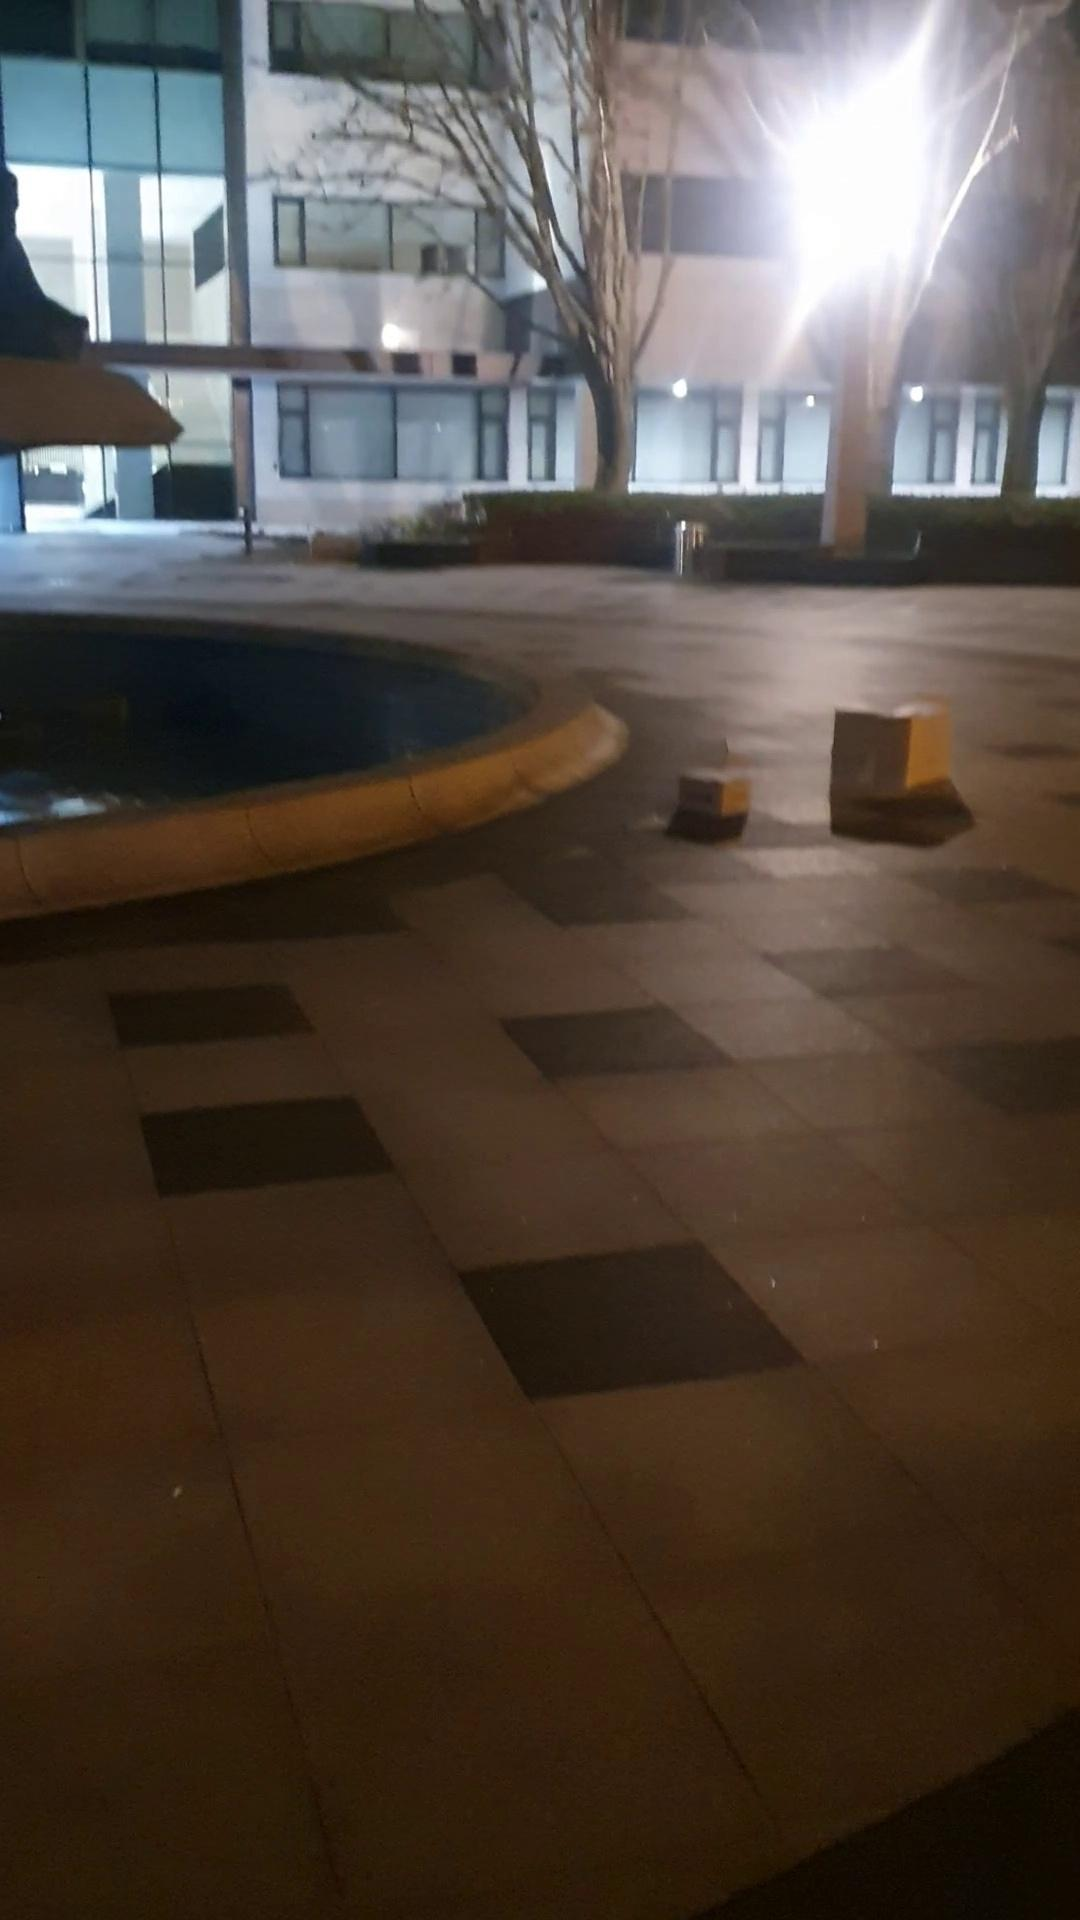Box: (823, 700, 957, 812), (669, 770, 762, 832)
